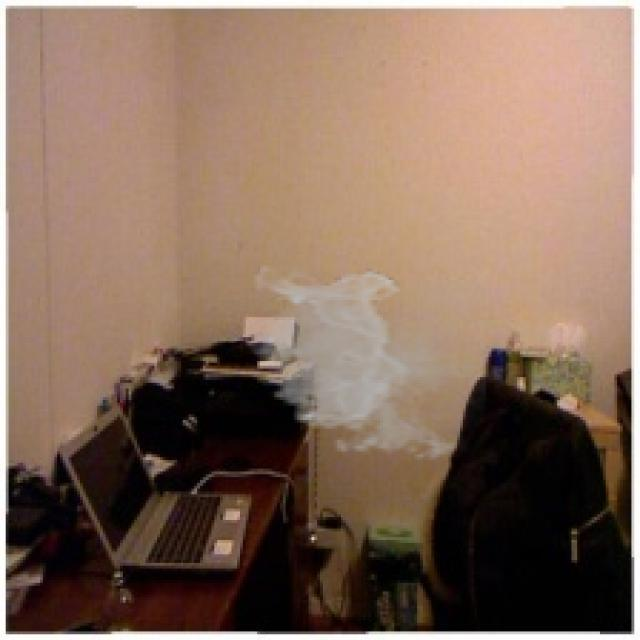Smoke: (245, 266, 486, 466)
